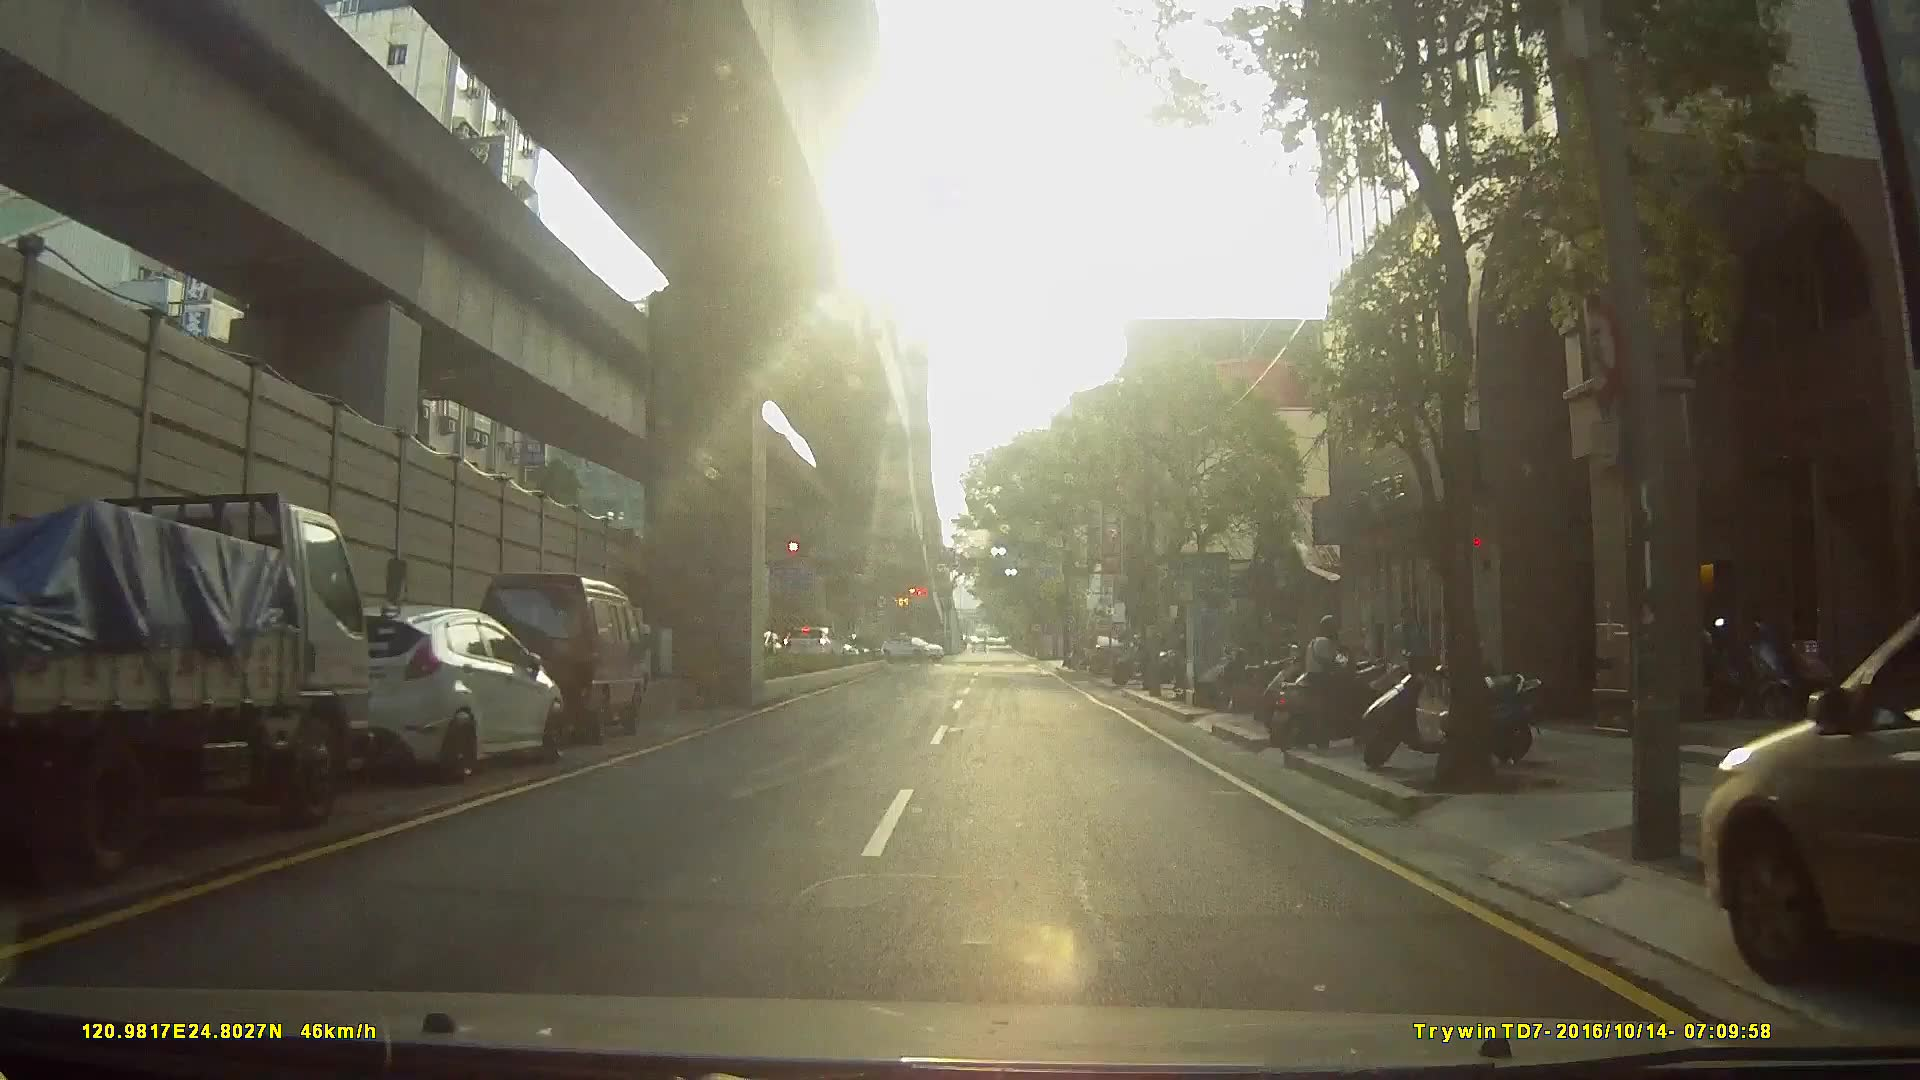rider: (1267, 608, 1403, 747)
vehicle: (2, 471, 422, 856), (1699, 624, 1920, 1017), (271, 588, 561, 787), (462, 565, 654, 742), (779, 622, 844, 664), (1079, 635, 1126, 676), (877, 634, 940, 661)
